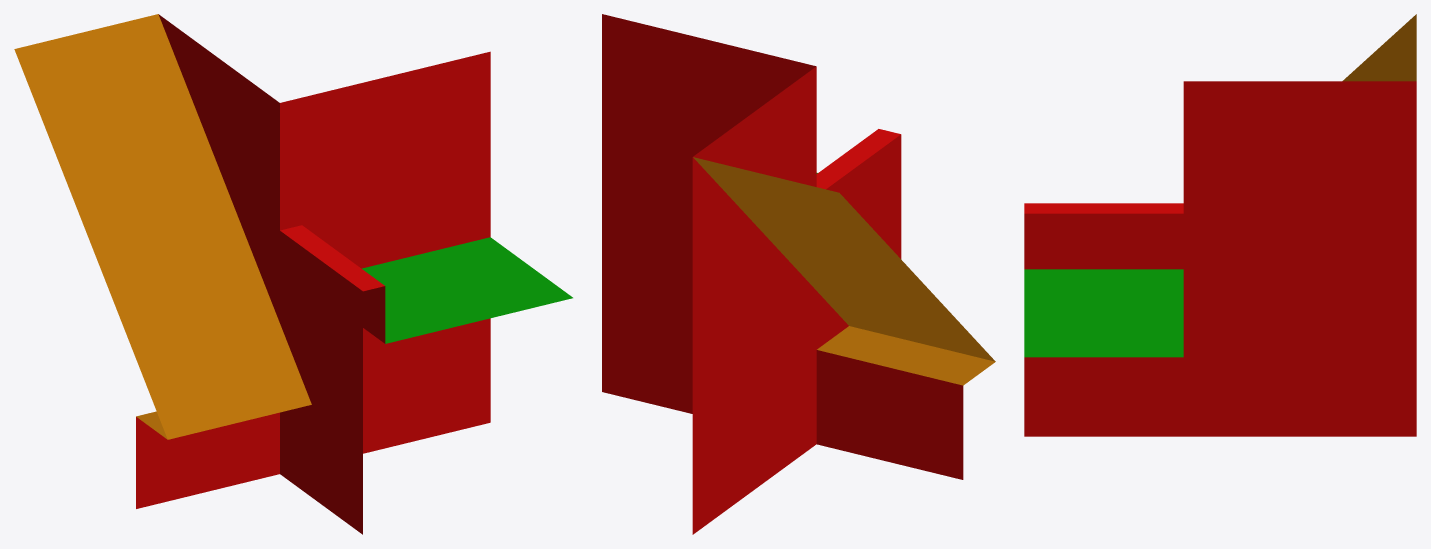
The picture shows the model from 3 angles, left to right: view 1: azimuth 30°, elevation 25°; view 2: azimuth 150°, elevation 25°; view 3: azimuth 270°, elevation 25°; orthographic projection. The views are drawn at different scales.
Parts seen in each view (by area): view 1: None_A_W_A_E_S_E_E_E_None; view 2: None_A_W_A_E_S_E_E_E_None; view 3: None_A_W_A_E_S_E_E_E_None.
Boxes of the visible parts, left/top/right/bottom form: None_A_W_A_E_S_E_E_E_None: left=14, top=14, right=572, bottom=534; None_A_W_A_E_S_E_E_E_None: left=602, top=14, right=995, bottom=534; None_A_W_A_E_S_E_E_E_None: left=1024, top=14, right=1416, bottom=436.
Bounding box in the file's own units: 100 × 100 × 100.
